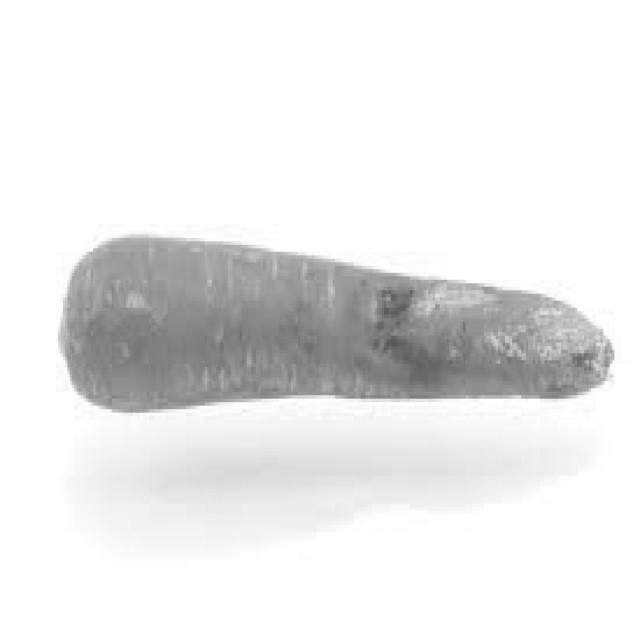Stale_Carrot: (353, 258, 623, 430)
